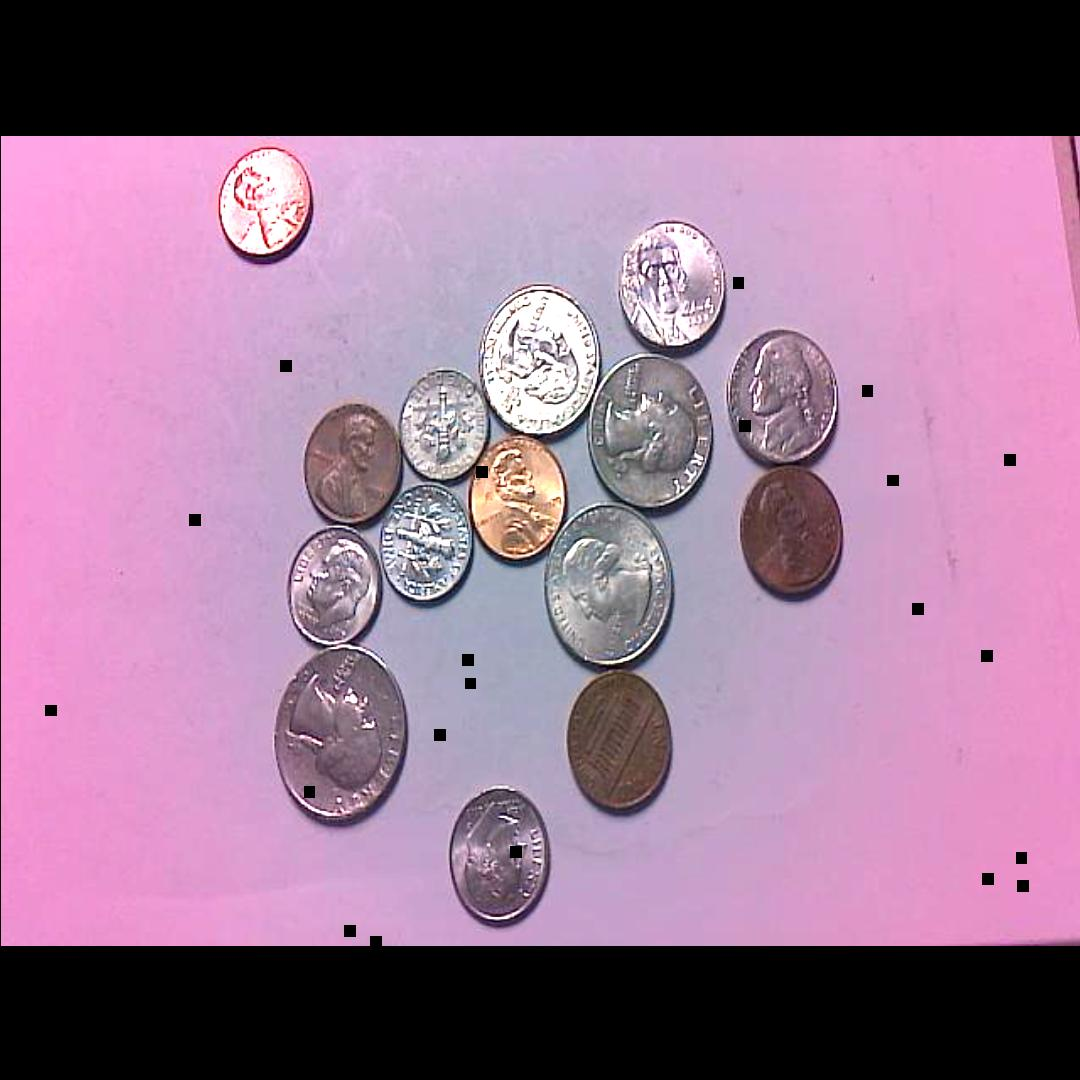Dime: (442, 783, 555, 928), (280, 526, 383, 650), (371, 486, 476, 604), (402, 368, 494, 479)
Nickel: (729, 324, 842, 471), (618, 214, 729, 353)
Penny: (564, 667, 673, 817), (736, 467, 842, 599), (299, 398, 403, 530), (211, 138, 316, 265), (466, 434, 567, 562)
Quarter: (270, 648, 410, 829), (540, 500, 677, 673), (587, 351, 714, 515), (479, 280, 604, 435)
